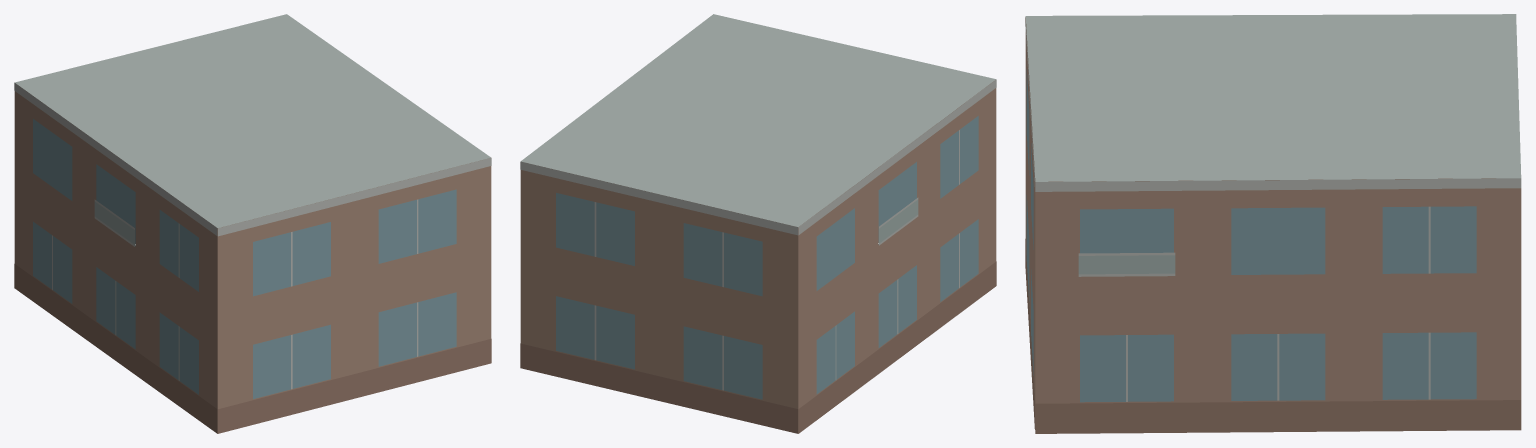
The model's file is survey-upis-32962487.glb.
3 views of the same model, side by side, from view 1: azimuth 30°, elevation 25°; view 2: azimuth 150°, elevation 25°; view 3: azimuth 270°, elevation 25° (orthographic). The views are drawn at different scales.
Parts seen in each view (by area): view 1: survey-upis-32962487.tmp; view 2: survey-upis-32962487.tmp; view 3: survey-upis-32962487.tmp.
Part boxes in pixels (box(x1,y1,x2,y2)): survey-upis-32962487.tmp: box(14, 14, 491, 433); survey-upis-32962487.tmp: box(520, 14, 996, 433); survey-upis-32962487.tmp: box(1025, 14, 1521, 433).
Size of the model in its own units: 8.74 by 6.1 by 10.89.
